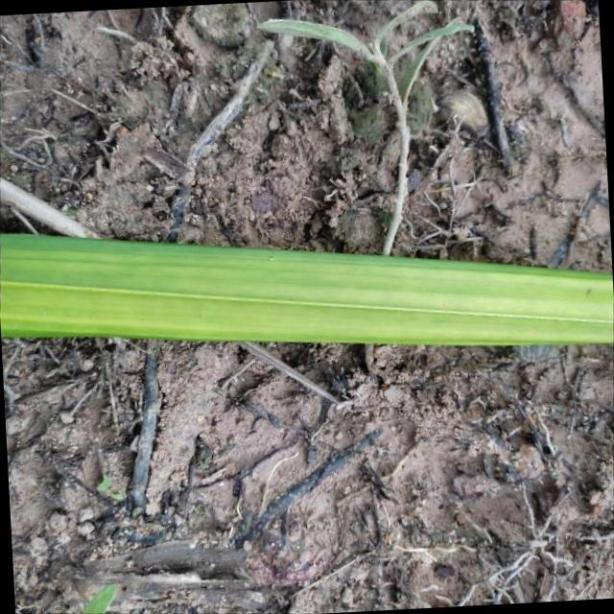nitrogen: (3, 228, 614, 342)
